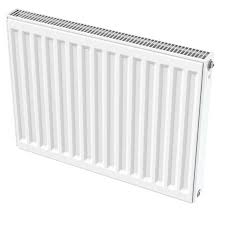Radiator: (5, 6, 217, 205)
